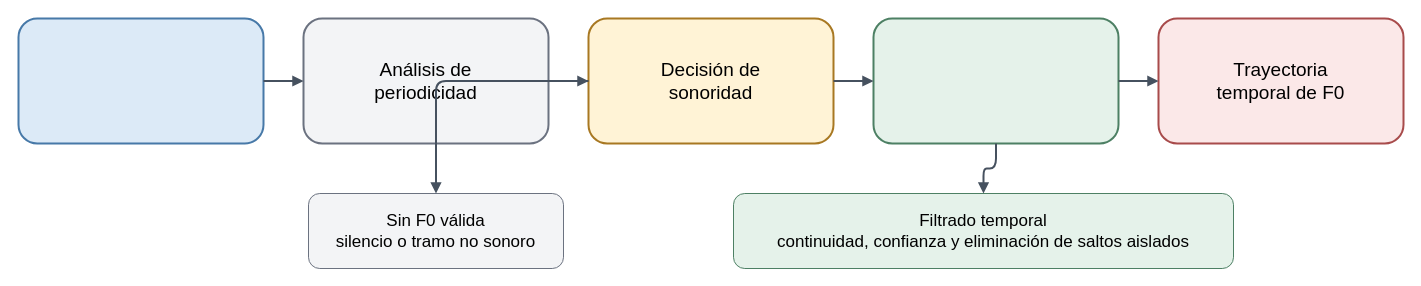
The diagram is 1421 pixels wide and 286 high, and some of its shapes have lost their labels. The shapes that lost their labels are listed below. From the top down, each one's centre as x and y in pixels, then its label:
point 140,80: Bloque de audio vocal
point 995,80: Estimación y refinamiento de F0
